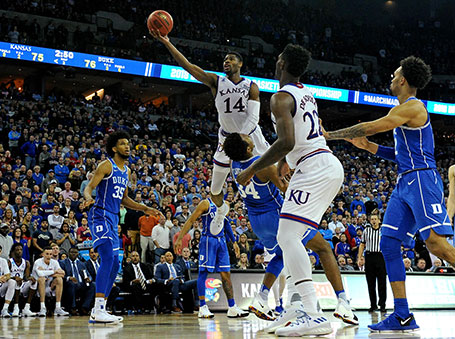ball: (139, 4, 176, 37)
defense: (317, 53, 455, 339)
shoot: (148, 28, 279, 236)
stand: (74, 122, 163, 329)
